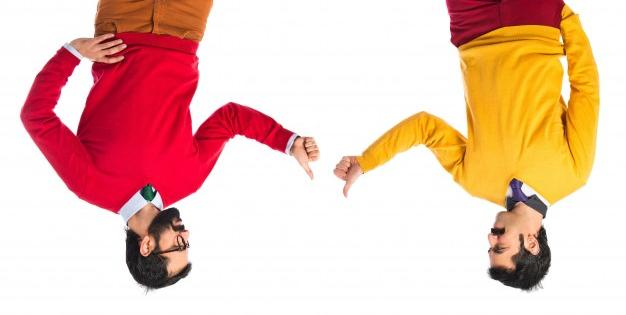thumbsdown: (299, 138, 320, 181), (333, 156, 354, 198)
